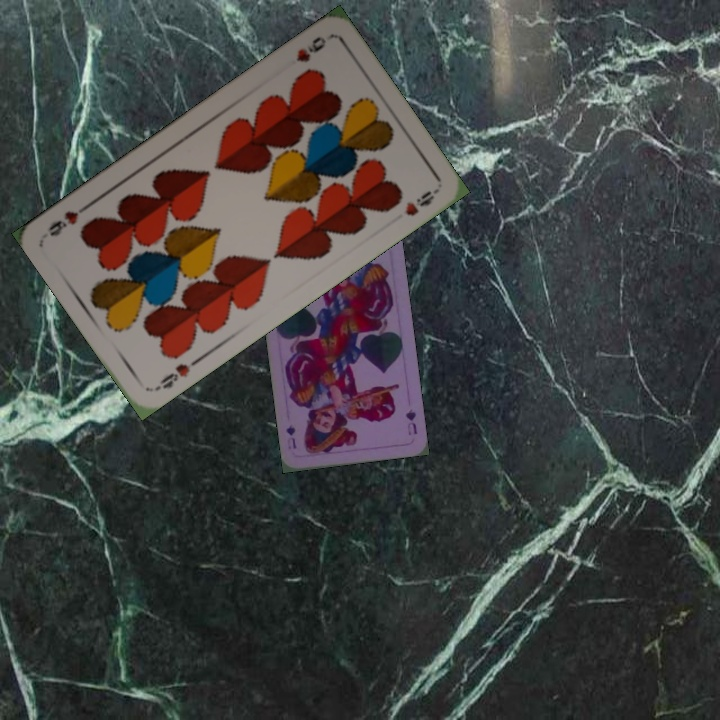GU: (401, 405, 420, 437)
H9: (150, 354, 202, 394), (292, 32, 329, 65)
